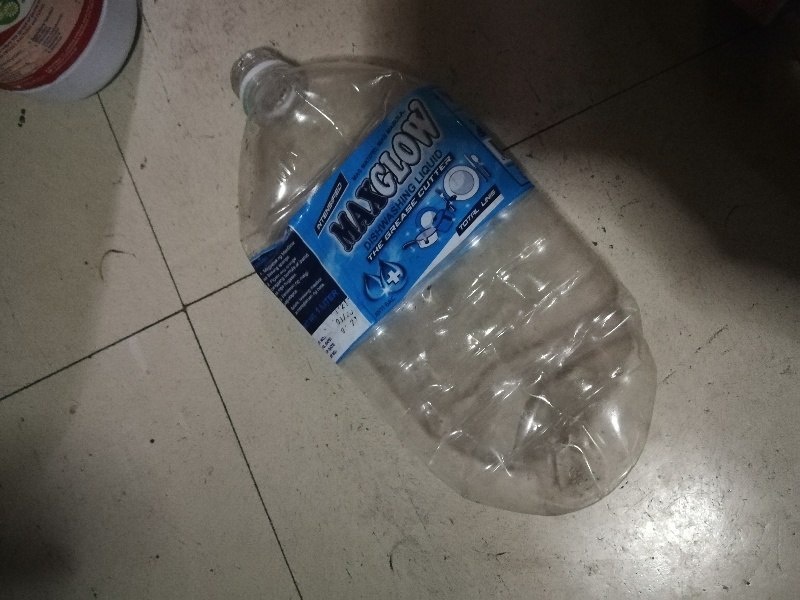HDPE #2: (1, 2, 141, 102)
PET #1: (224, 46, 653, 519)
